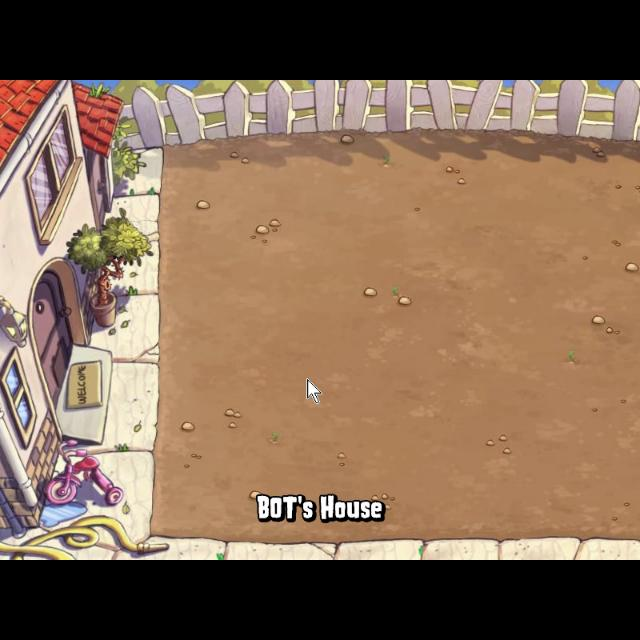House Name: (251, 488, 391, 528)
